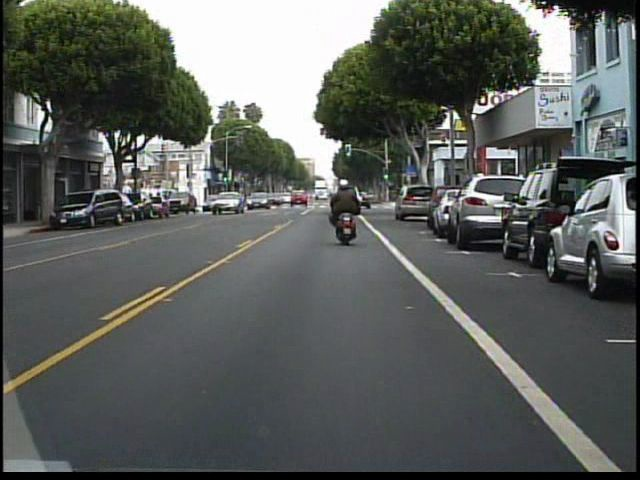person: (327, 174, 365, 243)
